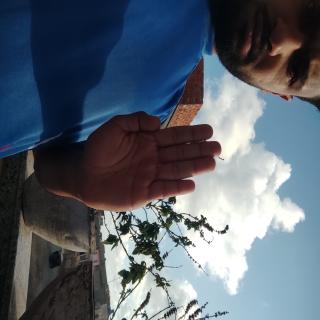SEEN: (77, 127, 164, 320)
